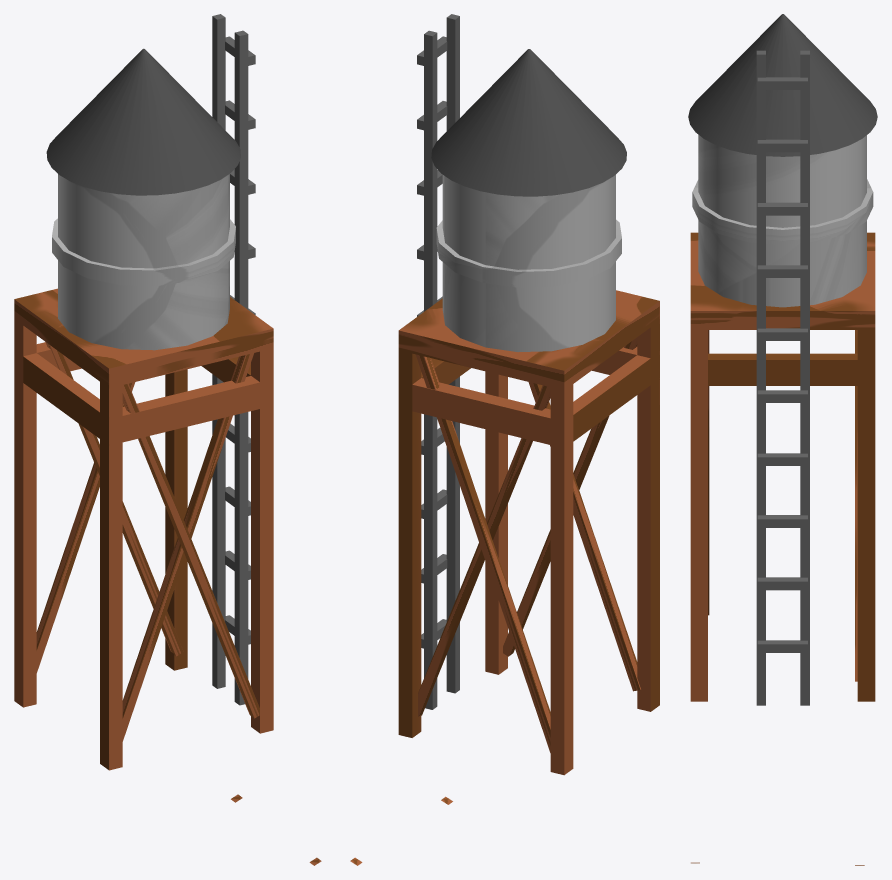
The model's file is ChateauD'eau.fbx.
The picture shows the model from 3 angles, left to right: view 1: azimuth 30°, elevation 25°; view 2: azimuth 150°, elevation 25°; view 3: azimuth 270°, elevation 25°; orthographic projection. The views are drawn at different scales.
Parts seen in each view (by area): view 1: Cube.072, Cylinder.087, Cone, Cube.068; view 2: Cube.072, Cylinder.087, Cone, Cube.068; view 3: Cube.072, Cylinder.087, Cube.068, Cone.
Part boxes in pixels (left/top/right/bottom): Cube.072: left=14, top=288, right=321, bottom=865; Cylinder.087: left=52, top=174, right=235, bottom=350; Cone: left=46, top=48, right=240, bottom=195; Cube.068: left=212, top=14, right=255, bottom=705; Cube.072: left=350, top=290, right=659, bottom=865; Cylinder.087: left=436, top=174, right=621, bottom=352; Cone: left=431, top=49, right=626, bottom=196; Cube.068: left=417, top=14, right=459, bottom=709; Cube.072: left=690, top=232, right=875, bottom=865; Cylinder.087: left=692, top=135, right=873, bottom=307; Cube.068: left=756, top=50, right=809, bottom=705; Cone: left=688, top=14, right=877, bottom=156.
Size of the model in its own units: 359 by 1267 by 275.
